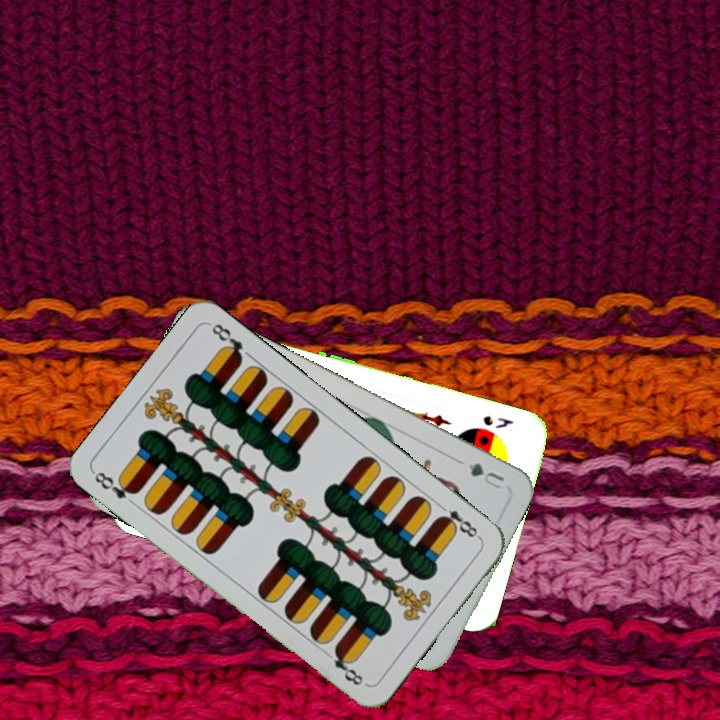E8: (434, 499, 483, 542), (89, 467, 141, 502)
GU: (462, 458, 507, 492)
SK: (479, 411, 516, 431)
